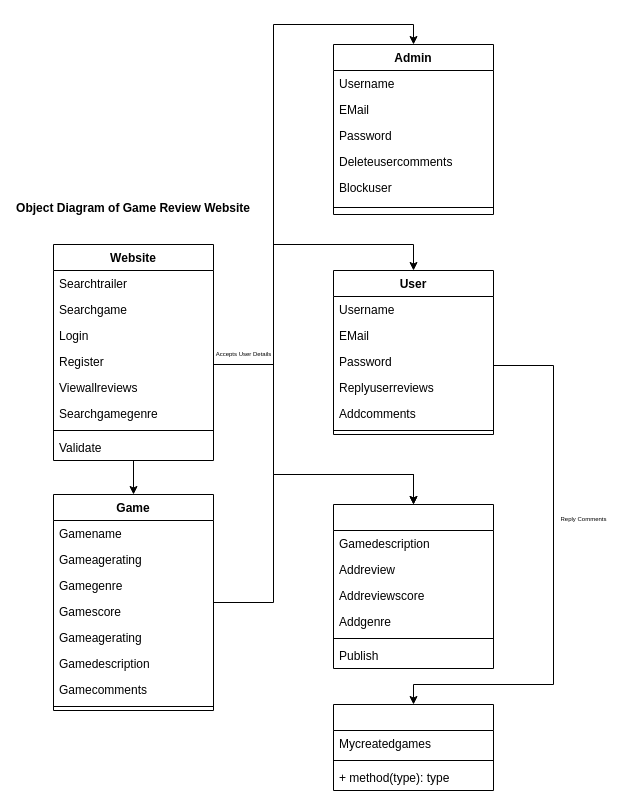
Some shapes in this 631 by 811 pixel diagram are drawn without their labels. Each missing label, with the box of its shape:
Developer: (332, 704, 494, 790)
GameReview: (332, 504, 494, 668)
